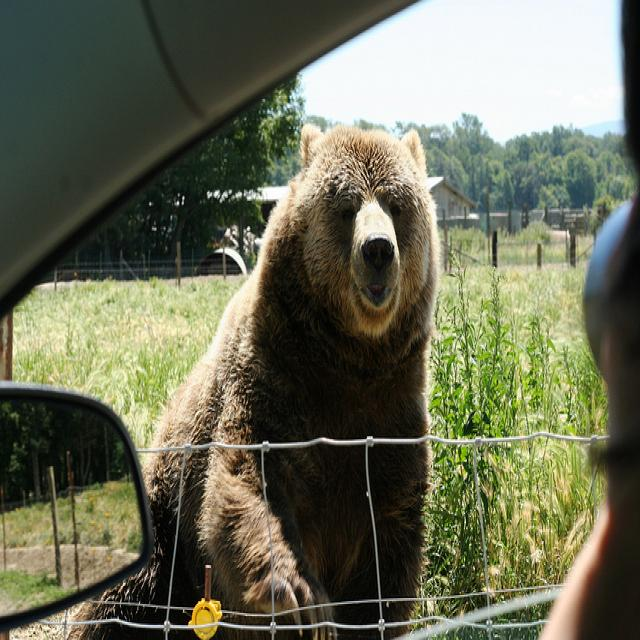Bear: (122, 112, 444, 627)
